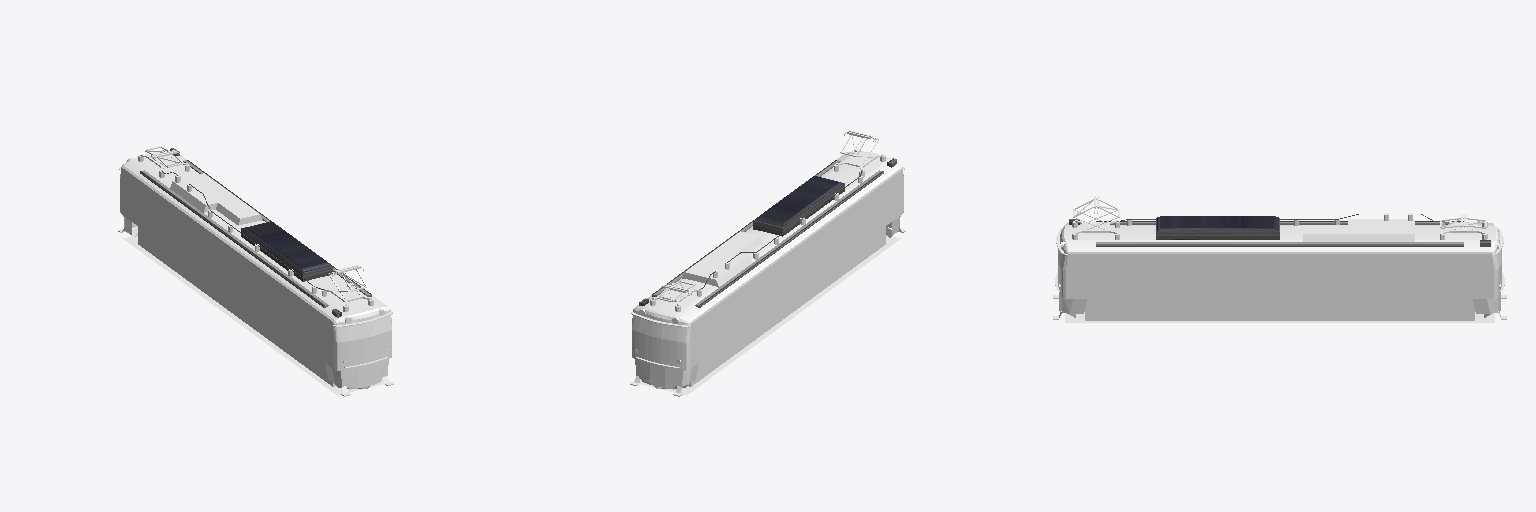
The picture shows the model from 3 angles: view 1: azimuth 30°, elevation 25°; view 2: azimuth 150°, elevation 25°; view 3: azimuth 270°, elevation 25°; orthographic projection.
Visible parts, largest first — view 1: obj1; view 2: obj1; view 3: obj1.
Part boxes in pixels (x1,y1,x2,y2): obj1: (118,146,393,396); obj1: (630,130,905,396); obj1: (1053,196,1506,322).
Size of the model in its own units: 2.87 by 5.06 by 19.
Materials: 8 (2 with a texture image).